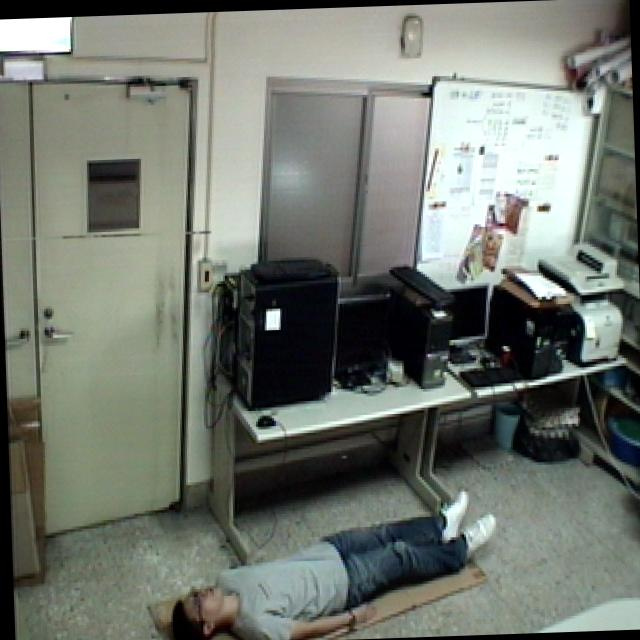lie: (155, 462, 515, 640)
